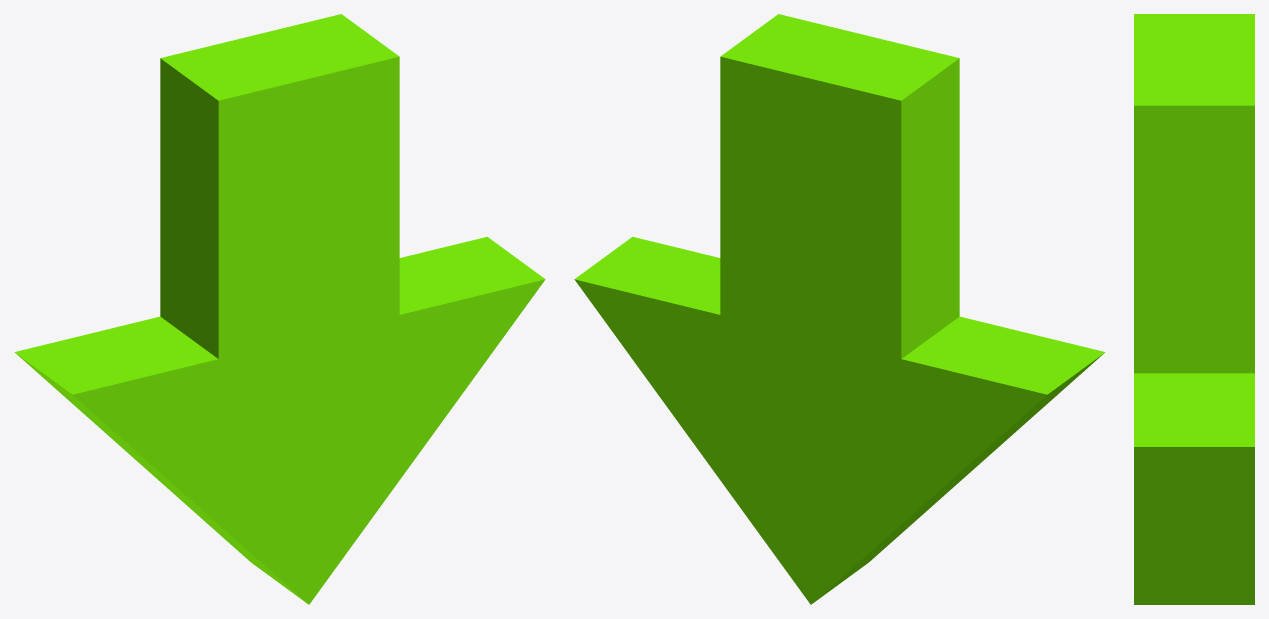
File: arrow.fbx
3 views of the same model, side by side, from view 1: azimuth 30°, elevation 25°; view 2: azimuth 150°, elevation 25°; view 3: azimuth 270°, elevation 25° (orthographic). The views are drawn at different scales.
Visible parts, largest first — view 1: THE_ARROW_____1; view 2: THE_ARROW_____1; view 3: THE_ARROW_____1.
Boxes of the visible parts, <box> form: THE_ARROW_____1: <box>14,14,545,604</box>; THE_ARROW_____1: <box>574,14,1105,604</box>; THE_ARROW_____1: <box>1134,14,1254,604</box>.
Bounding box in the file's own units: 3.93 × 4.18 × 0.8382.
